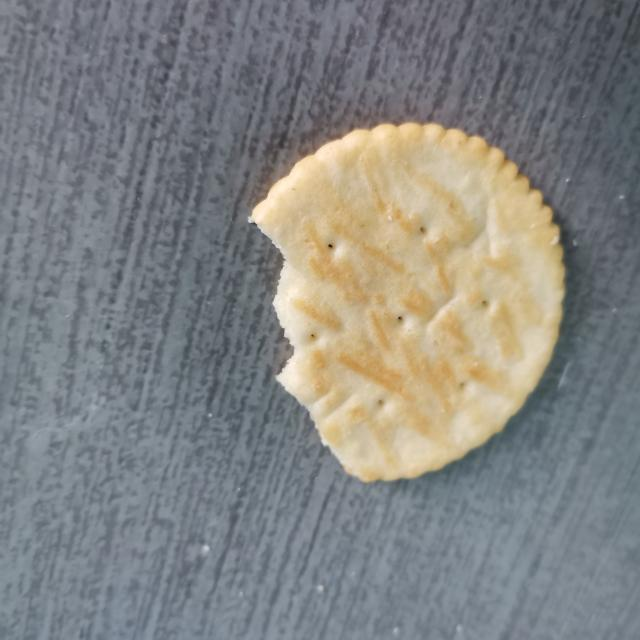Broken: (248, 120, 567, 484)
